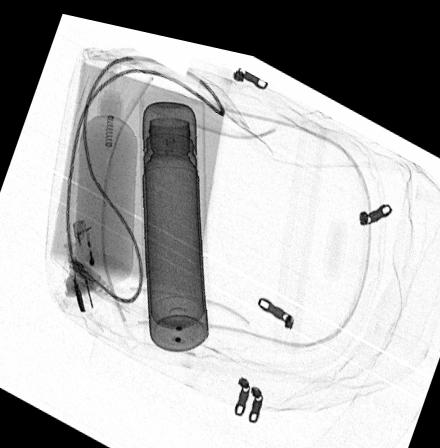Lighter: (72, 215, 100, 280)
